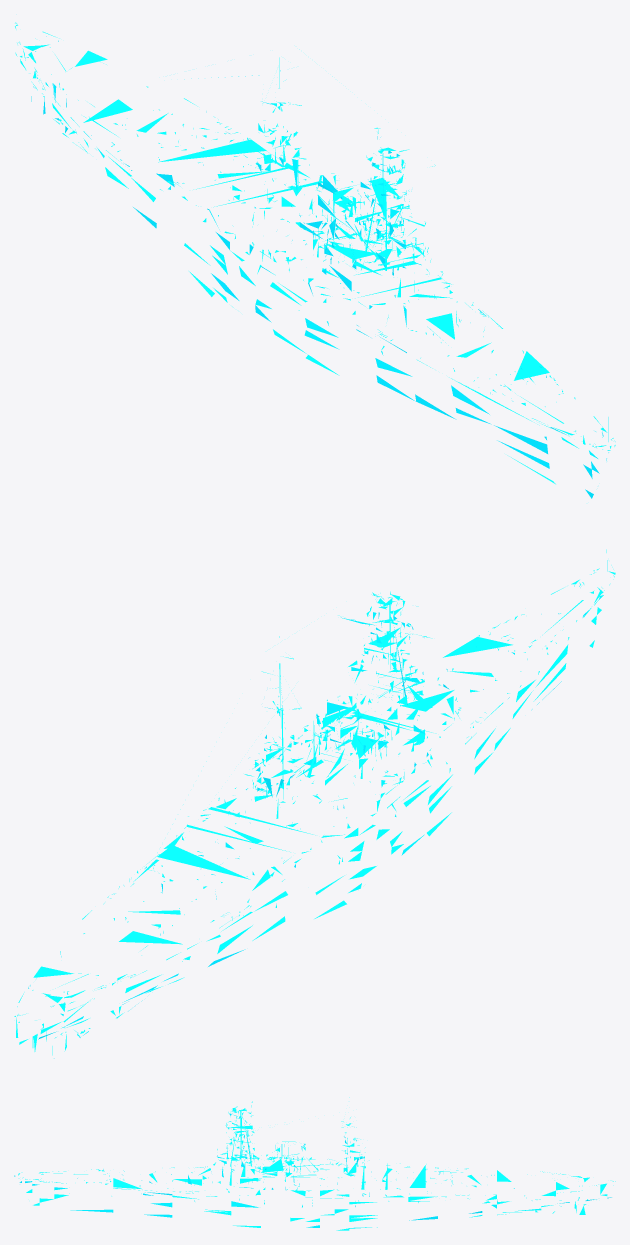
Rendered from Adatara.glb.
3 views of the same model, one above another, from view 1: azimuth 30°, elevation 25°; view 2: azimuth 150°, elevation 25°; view 3: azimuth 270°, elevation 25° (orthographic). The views are drawn at different scales.
Size of the model in its own units: 2.35 by 3.99 by 17.16.
